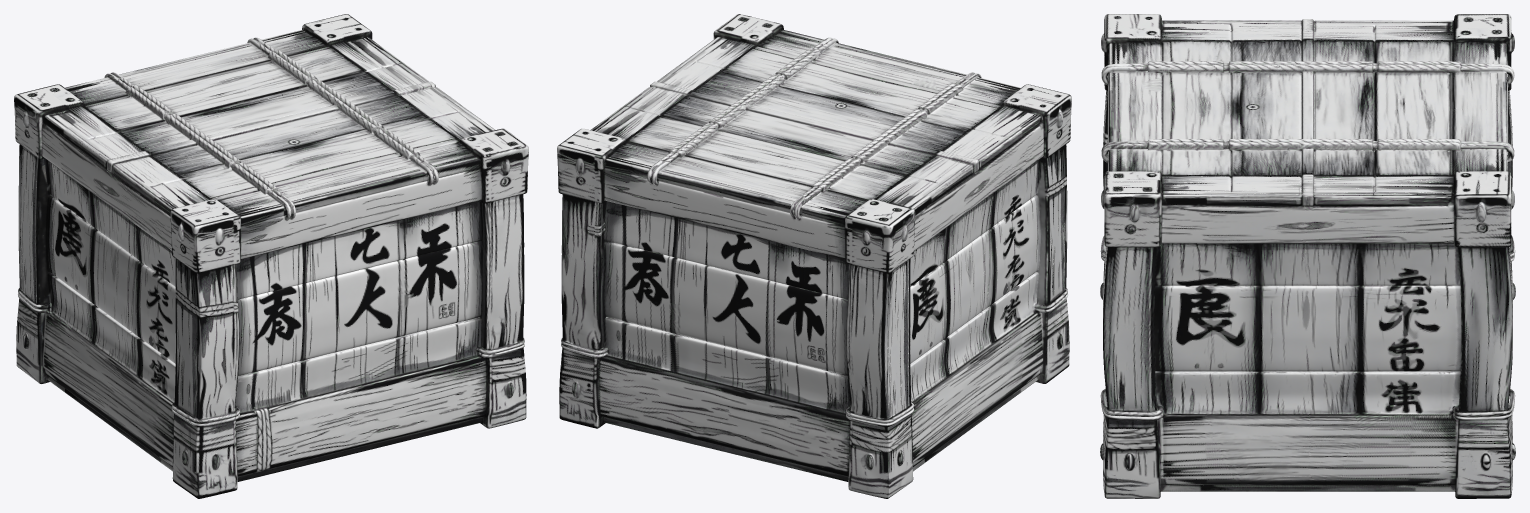
Rendered from crate.glb.
The picture shows the model from 3 angles, left to right: view 1: azimuth 30°, elevation 25°; view 2: azimuth 150°, elevation 25°; view 3: azimuth 270°, elevation 25°; orthographic projection. The views are drawn at different scales.
Size of the model in its own units: 1.9 by 1.47 by 1.8.
1 material, 1 textured.
